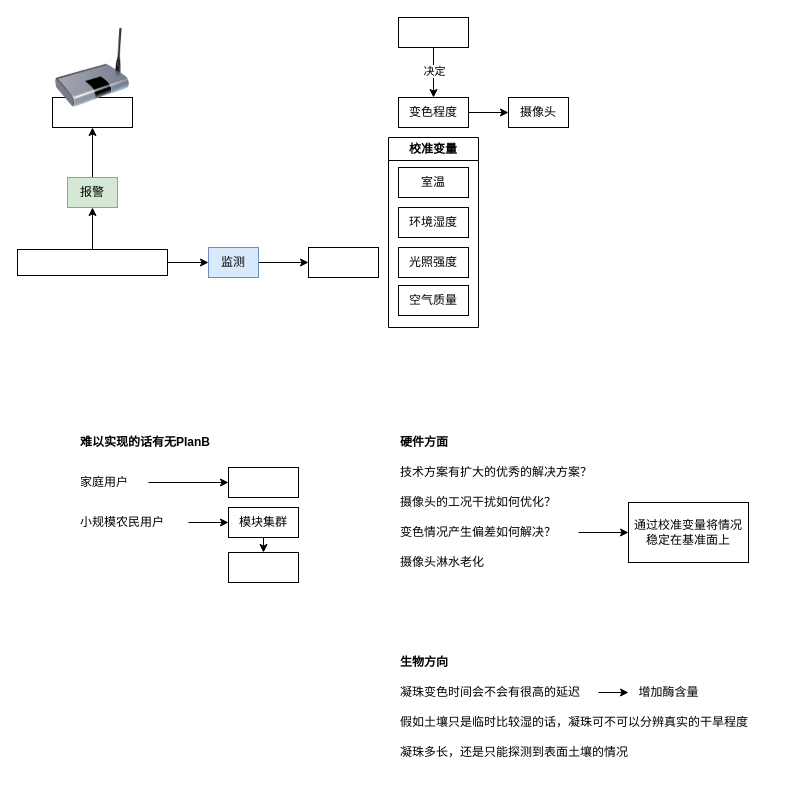
The diagram is 786 pixels wide and 785 high, and some of its shapes have lost their labels. The centre of each missing label's shape, as x and y in pixels:
"一体式凝珠监测报警系统" goes at [92,262].
"单元化独立控制" goes at [263,567].
"单装置智能监控" goes at [263,482].
"土壤湿度" goes at [433,32].
"数据建模" goes at [343,262].
"无线局域网" goes at [92,112].
